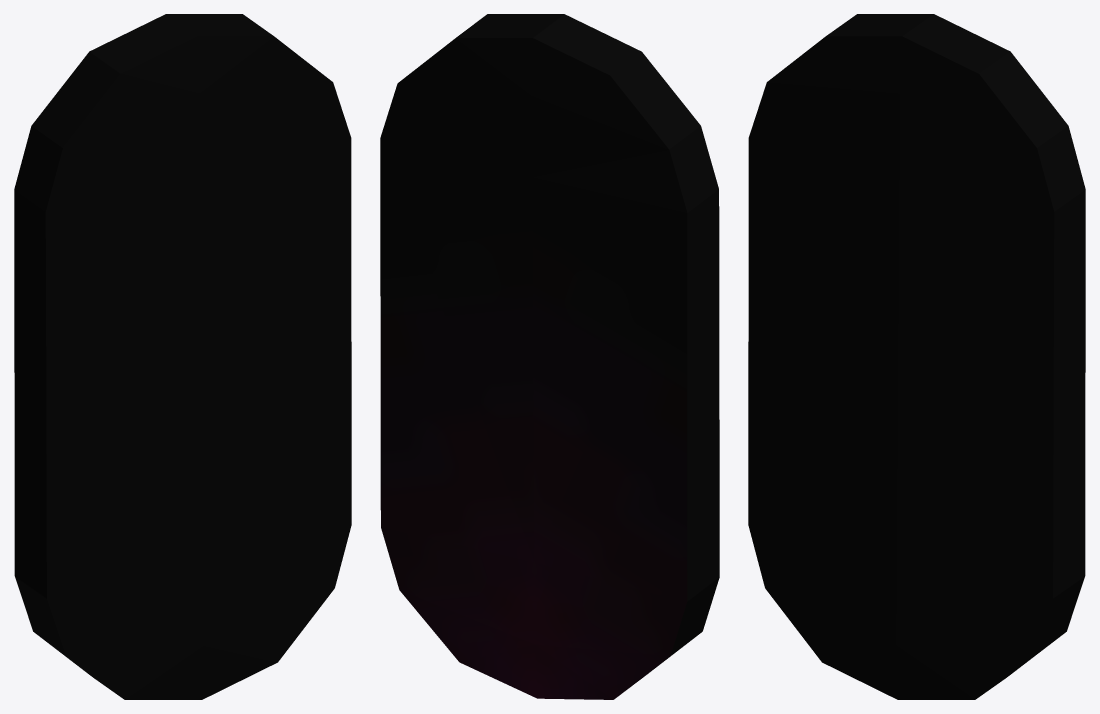
The model's file is 0090_MIAOMIAOJINGBI.glb.
3 views of the same model, side by side, from view 1: azimuth 30°, elevation 25°; view 2: azimuth 150°, elevation 25°; view 3: azimuth 330°, elevation 25° (orthographic).
Size of the model in its own units: 1.06 by 2.2 by 0.2375.
Materials: 1 (1 with a texture image).
